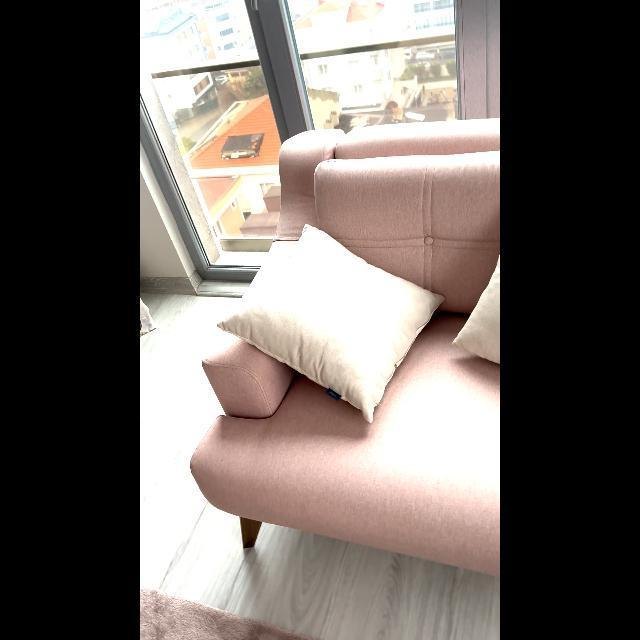throw pillow: (214, 219, 446, 427)
